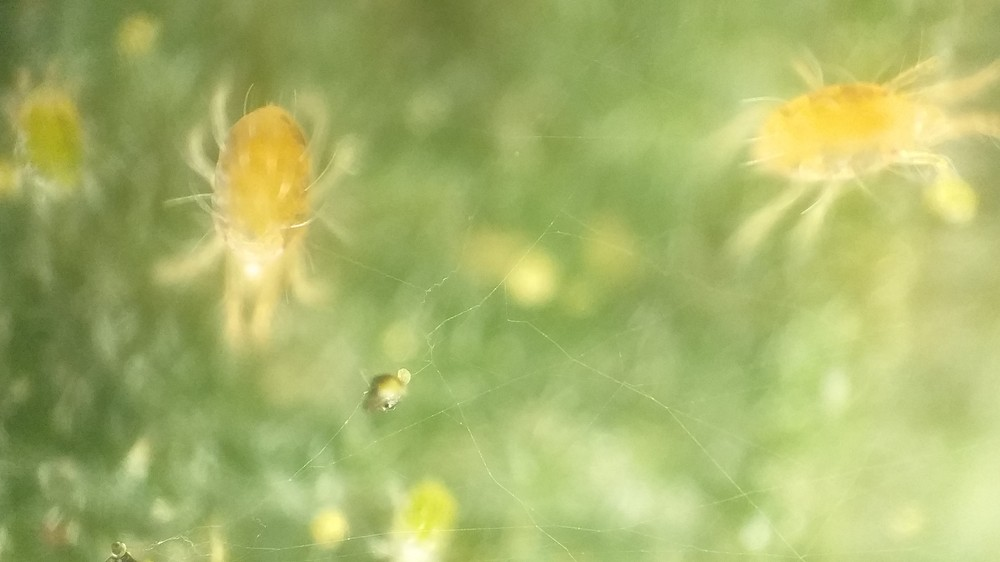Aracnido Rojo: (703, 18, 1000, 262), (141, 71, 375, 369), (5, 56, 139, 217)
